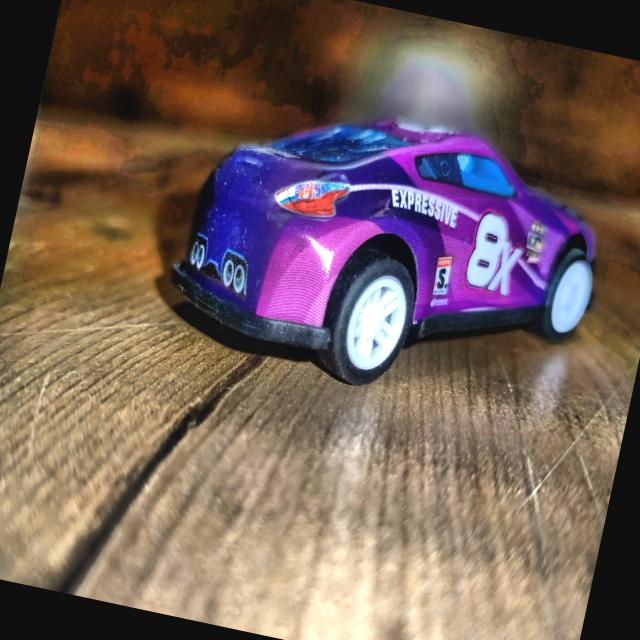Car: (158, 81, 616, 428)
